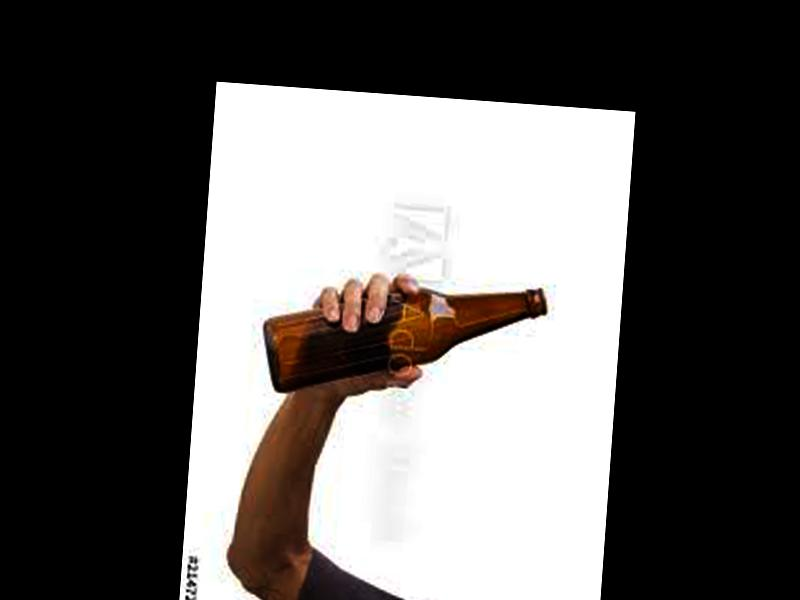Beer: (258, 266, 549, 411)
